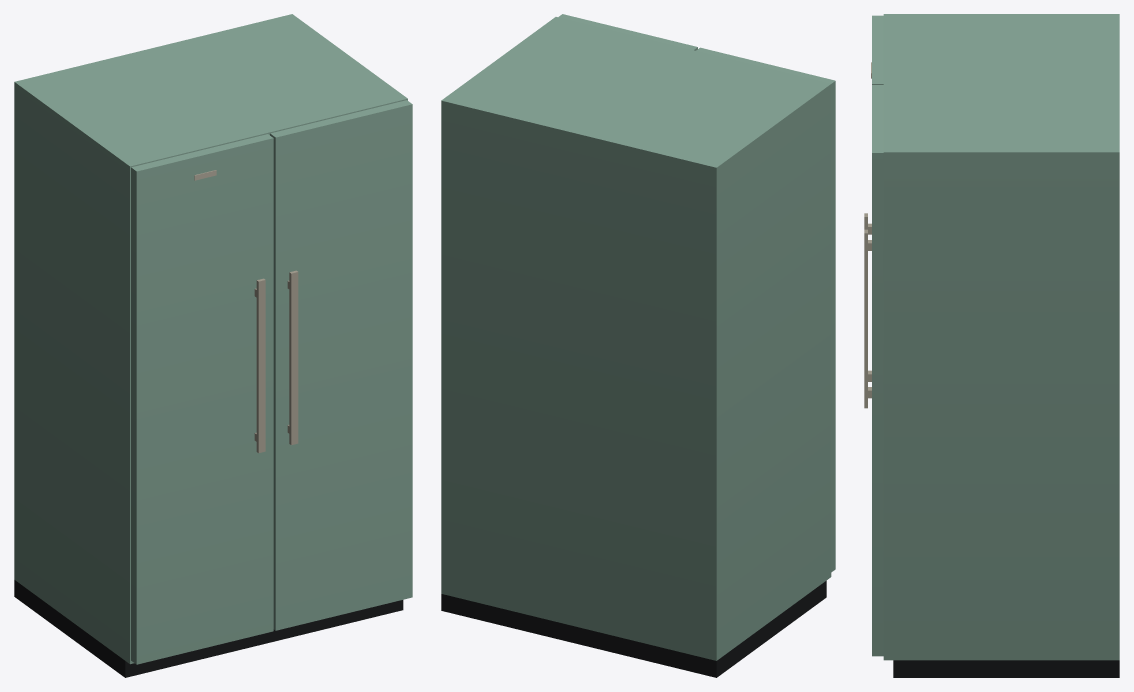
Rendered from appliance.fridge.mint.glb.
The picture shows the model from 3 angles, left to right: view 1: azimuth 30°, elevation 25°; view 2: azimuth 150°, elevation 25°; view 3: azimuth 270°, elevation 25°; orthographic projection. The views are drawn at different scales.
Visible parts, largest first — view 1: appliance_fridge_mint; view 2: appliance_fridge_mint; view 3: appliance_fridge_mint.
Boxes of the visible parts, box(x1,y1,x2,y2) form: appliance_fridge_mint: box(14, 14, 412, 677); appliance_fridge_mint: box(441, 14, 835, 677); appliance_fridge_mint: box(864, 14, 1119, 677).
Size of what is drawn, in the model's own units: 1.02 by 1.8 by 0.793.
